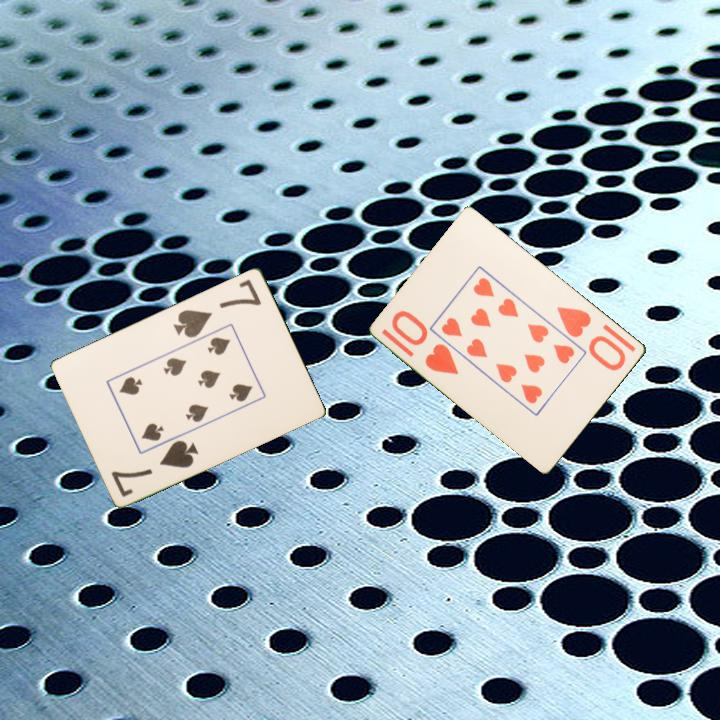10h: (553, 303, 629, 374), (388, 307, 462, 378)
7s: (169, 275, 265, 341), (108, 436, 201, 500)
